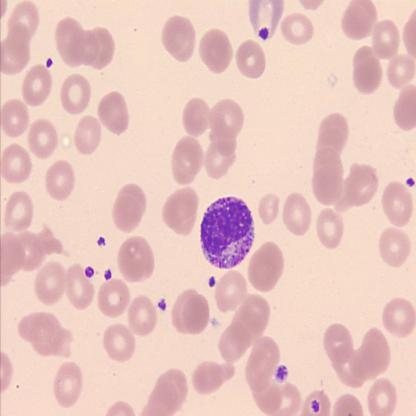Metamyelocyte: (195, 192, 258, 273)
